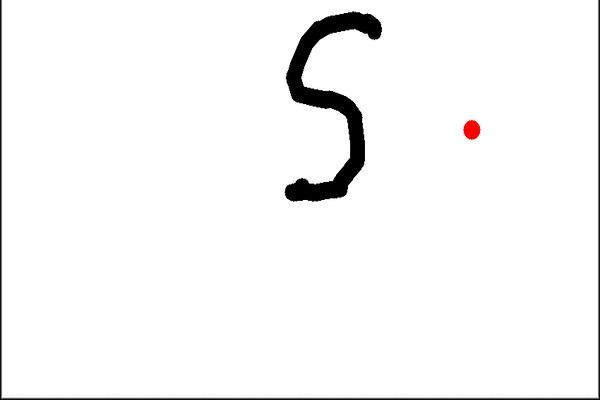S: (277, 7, 384, 211)
